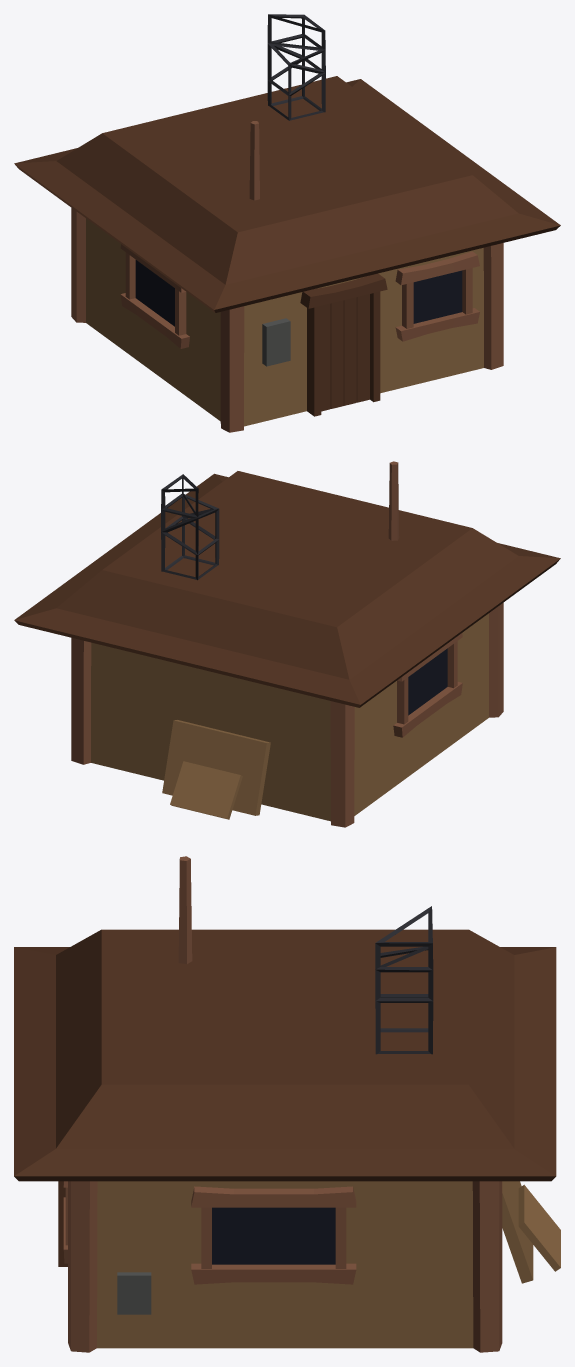
File: LPWarPack_Building1_001.fbx
3 renders of one model, top to bottom at view 1: azimuth 30°, elevation 25°; view 2: azimuth 150°, elevation 25°; view 3: azimuth 270°, elevation 25°, orthographic. The views are drawn at different scales.
Visible parts, largest first — view 1: Building1.001; view 2: Building1.001; view 3: Building1.001.
Part boxes in pixels (x1,y1,x2,y2): Building1.001: [14, 14, 560, 432]; Building1.001: [14, 461, 560, 827]; Building1.001: [14, 856, 560, 1352].
Size of the model in its own units: 525 by 404 by 529.
